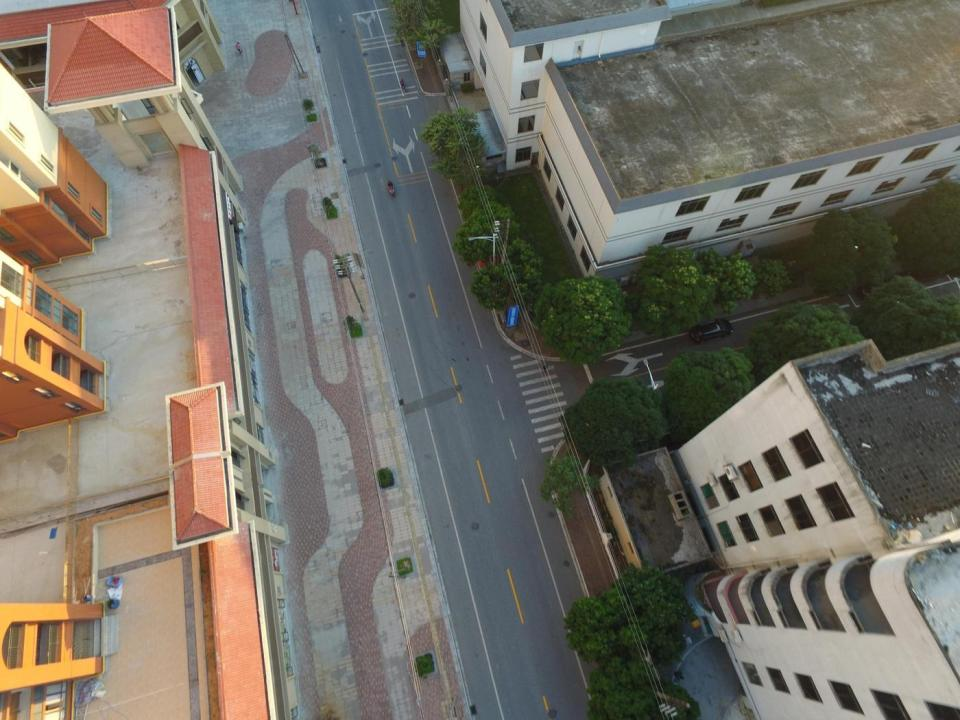car: (688, 319, 734, 345)
